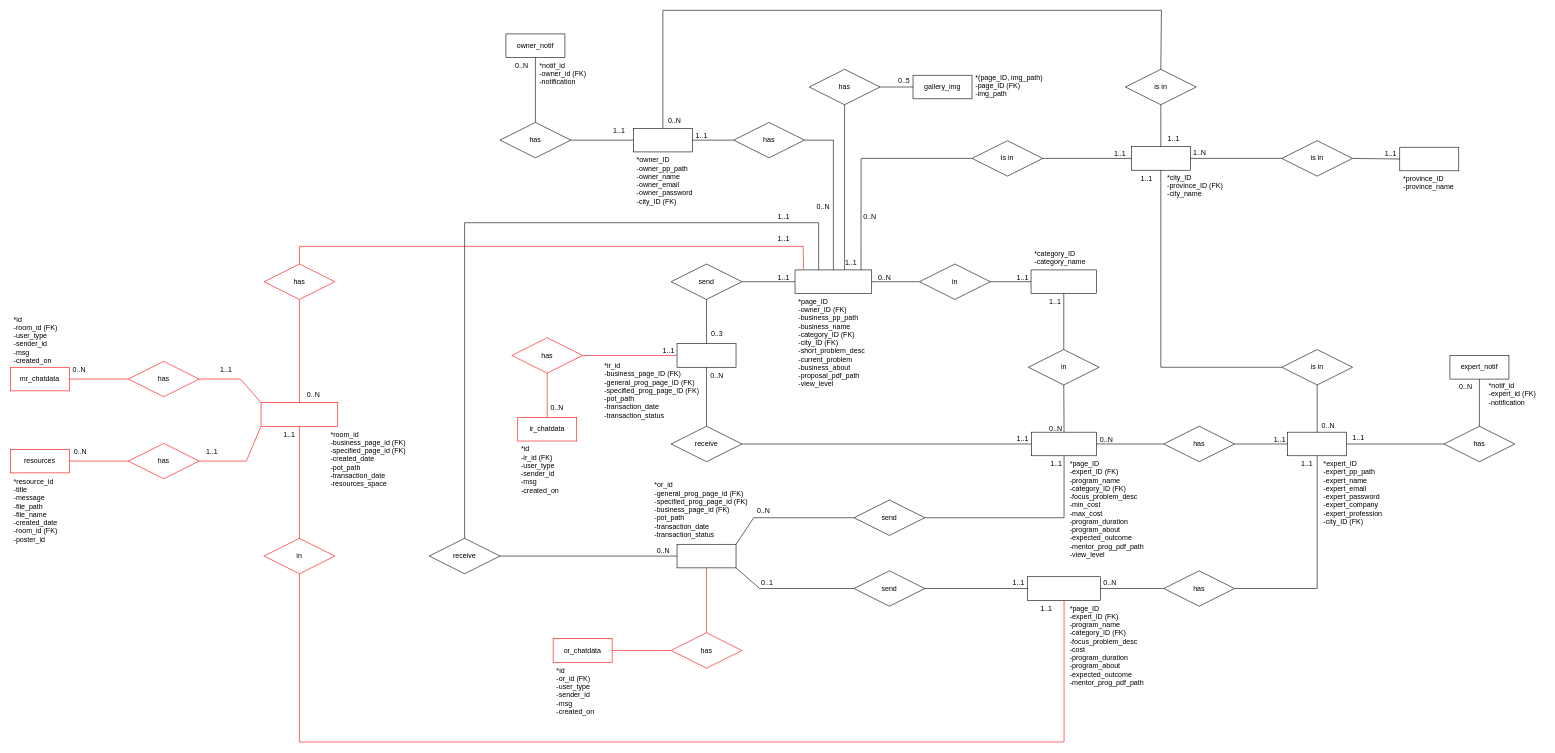
Image size: 1555x753. Some labels were removed from this diagram. The centre of each missing label's shape, as x and y in pixels:
business_category: (1063,281)
business_owner: (662,140)
business_page: (833,281)
city: (1160,158)
expert: (1317,444)
general_prog_page: (1064,444)
interest_request: (706,355)
mentor_room: (299,414)
offer_request: (706,556)
province: (1429,159)
specified_prog_page: (1064,588)
